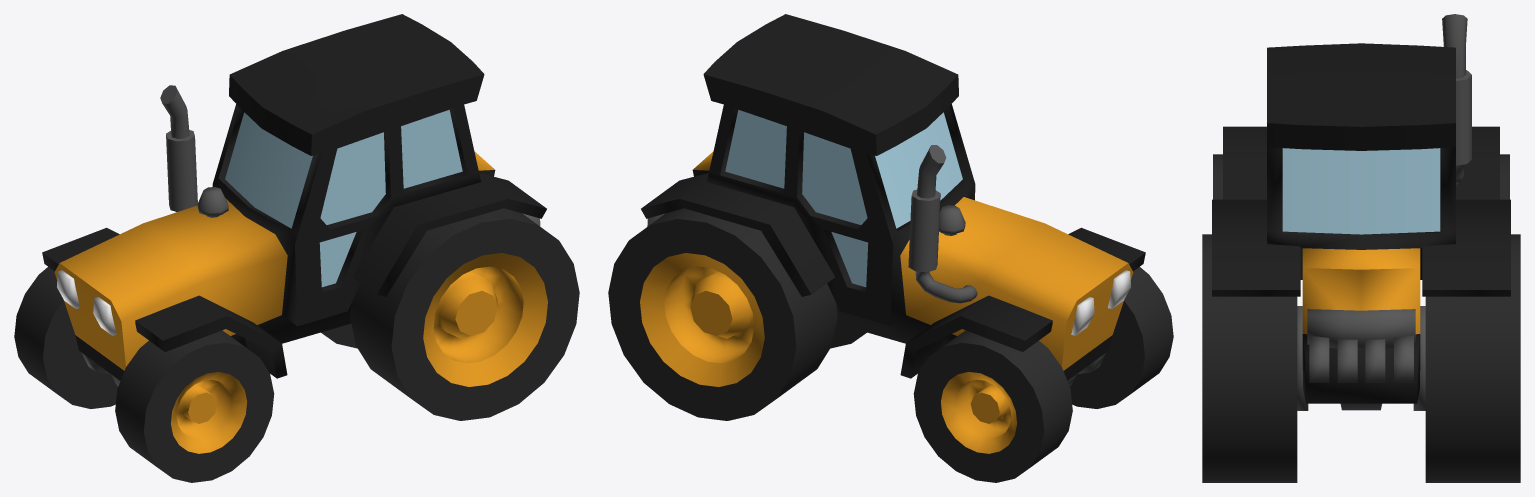
Rendered from Tractor.fbx.
The picture shows the model from 3 angles, left to right: view 1: azimuth 30°, elevation 25°; view 2: azimuth 150°, elevation 25°; view 3: azimuth 270°, elevation 25°; orthographic projection. The views are drawn at different scales.
Parts seen in each view (by area): view 1: Plane.001; view 2: Plane.001; view 3: Plane.001.
Boxes of the visible parts, left/top/right/bottom form: Plane.001: left=14, top=14, right=579, bottom=482; Plane.001: left=608, top=14, right=1173, bottom=482; Plane.001: left=1202, top=14, right=1520, bottom=482.
Size of the model in its own units: 76.06 by 52.55 by 41.62.
